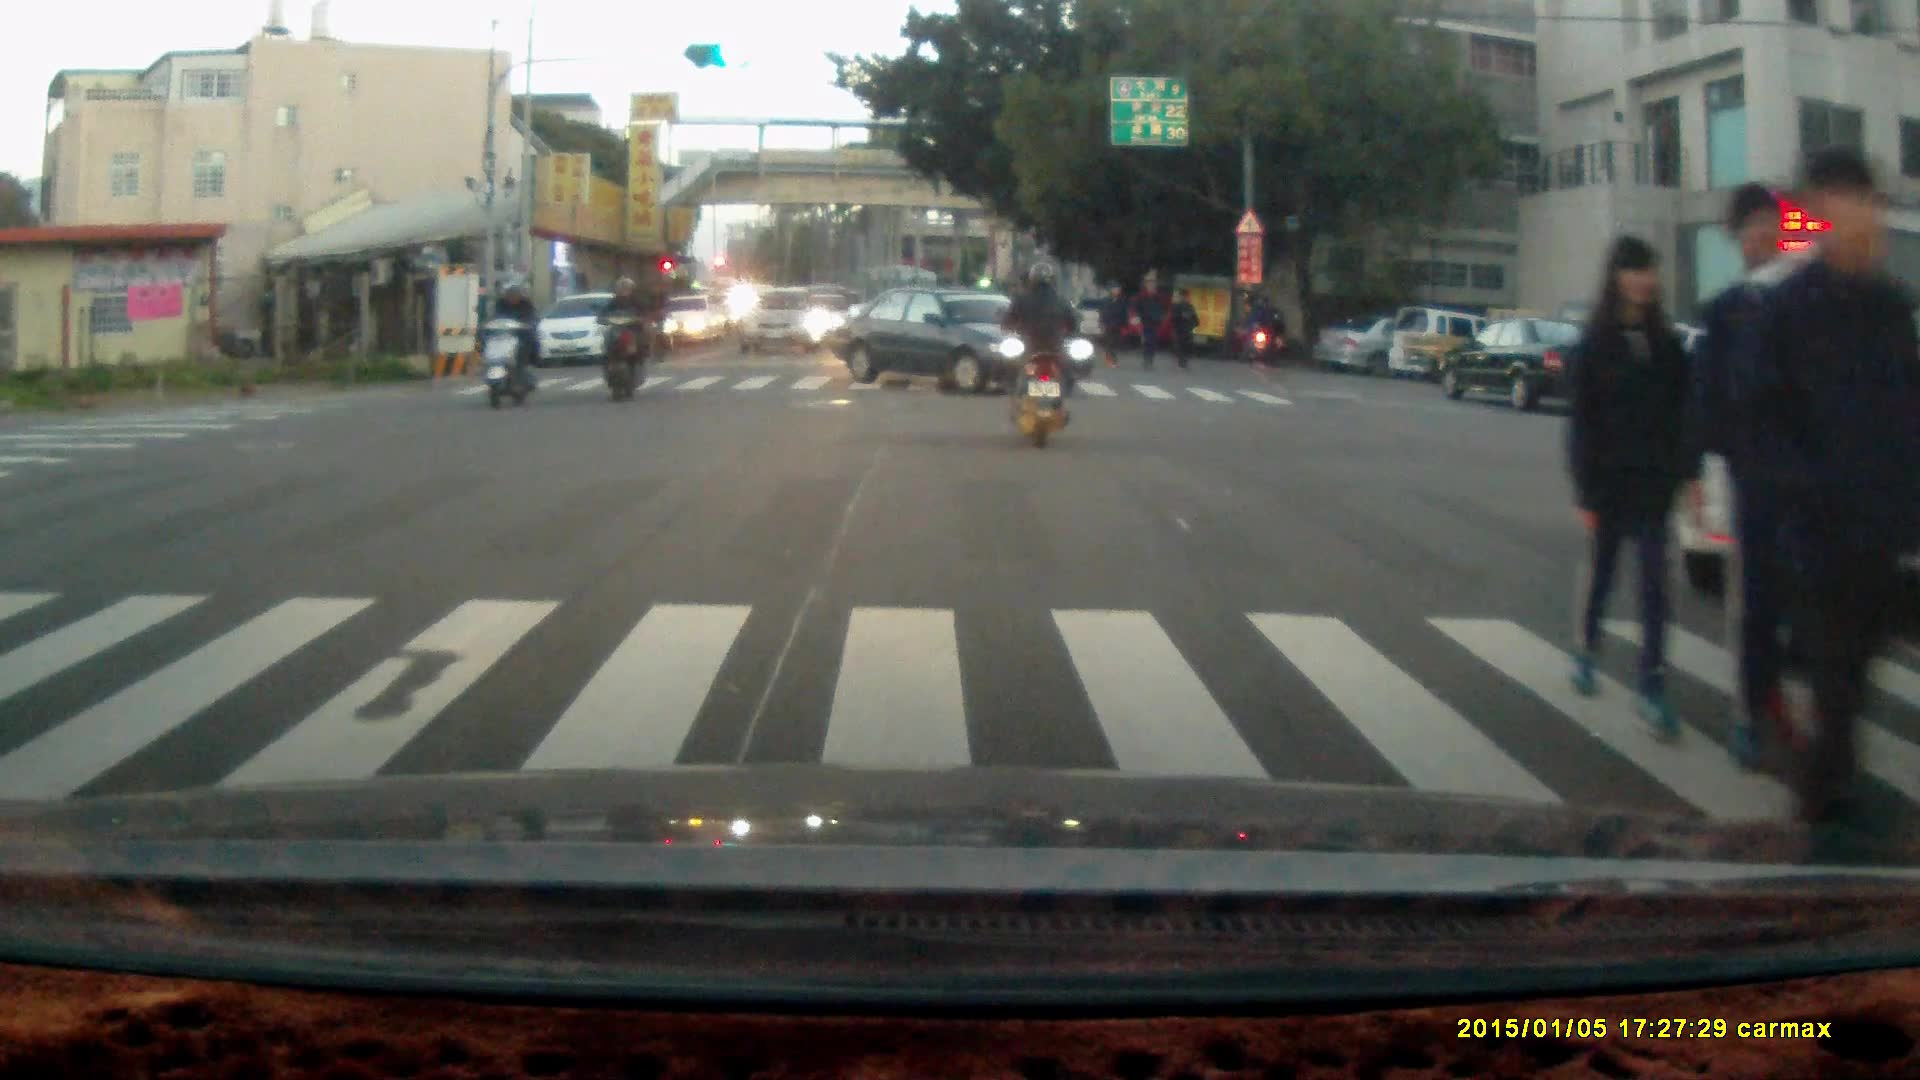pedestrian: (1735, 140, 1906, 840), (1697, 181, 1829, 783), (1557, 224, 1704, 741), (1128, 274, 1162, 373), (1166, 284, 1199, 374), (1096, 280, 1126, 362), (1252, 289, 1283, 366)
rider: (996, 259, 1081, 448), (478, 276, 541, 409), (590, 272, 653, 402), (1237, 298, 1275, 363)
vehicle: (825, 279, 1097, 398), (1444, 314, 1610, 410), (1316, 309, 1491, 380), (534, 292, 648, 369), (745, 288, 829, 358)
